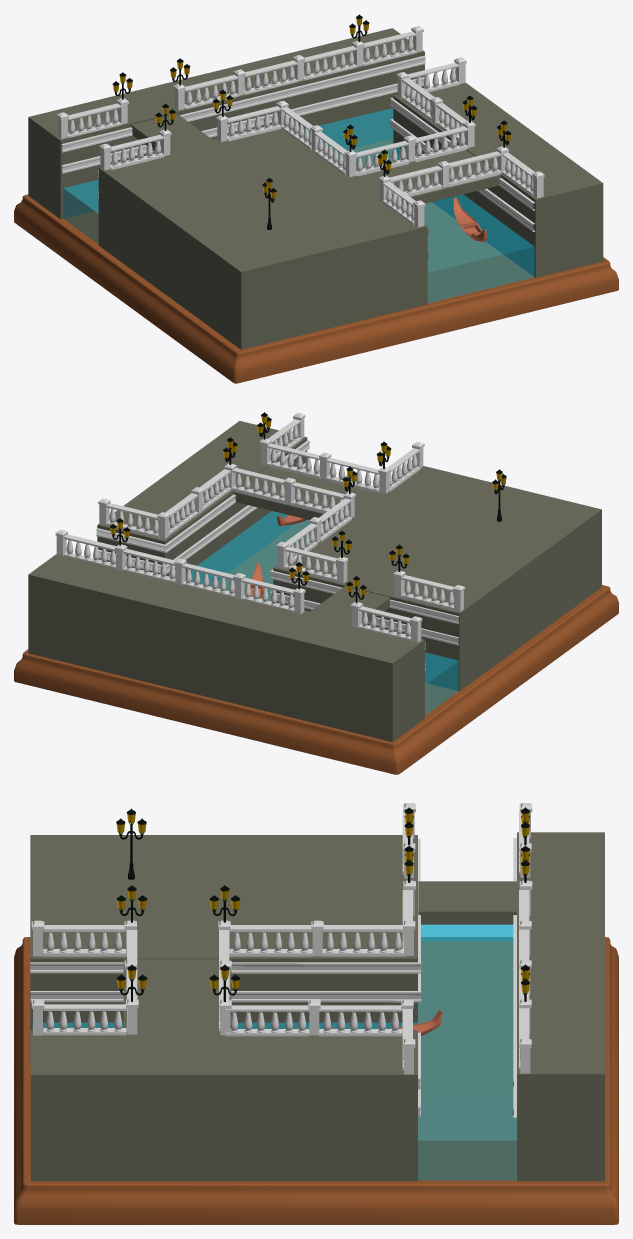
File: level4_2.FBX
3 renders of one model, top to bottom at view 1: azimuth 30°, elevation 25°; view 2: azimuth 150°, elevation 25°; view 3: azimuth 270°, elevation 25°, orthographic. The views are drawn at different scales.
Visible parts, largest first — view 1: Container001, Box074, Box073, Box075, Box076, Box077, Plane012; view 2: Container001, Box073, Box074, Box075, Box076, Box077; view 3: Container001, Box075, Box074, Box073, Box076, Box077, Cylinder088.
Boxes of the visible parts, <box> form: Container001: <box>14,26,618,383</box>; Box074: <box>98,129,427,349</box>; Box073: <box>28,28,424,219</box>; Box075: <box>393,82,603,277</box>; Box076: <box>359,150,501,206</box>; Box077: <box>131,114,212,151</box>; Plane012: <box>453,197,486,242</box>; Container001: <box>14,412,618,774</box>; Box073: <box>28,554,424,741</box>; Box074: <box>273,466,601,691</box>; Box075: <box>97,421,307,586</box>; Box076: <box>233,467,375,523</box>; Box077: <box>310,586,390,622</box>; Container001: <box>14,803,618,1224</box>; Box075: <box>30,1030,417,1181</box>; Box074: <box>30,835,417,1064</box>; Box073: <box>517,832,604,1181</box>; Box076: <box>123,959,231,1029</box>; Box077: <box>418,881,516,924</box>; Cylinder088: <box>116,808,146,879</box>.
Size of the model in its own units: 336 by 130 by 336.
